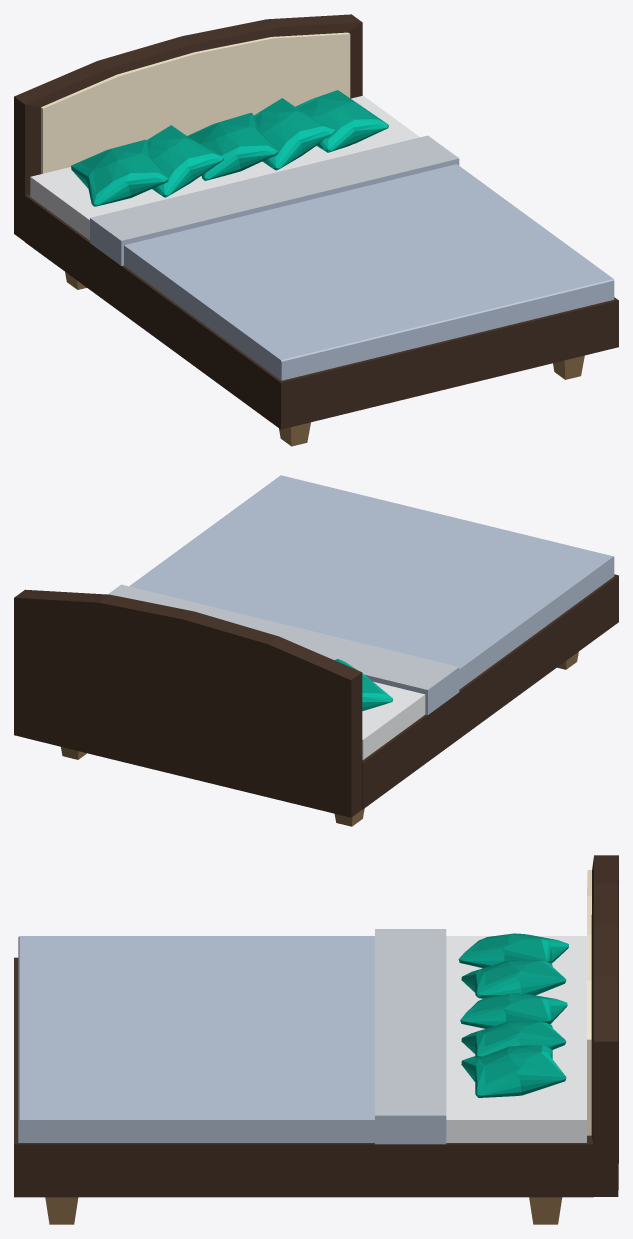
The model's file is Accesories_Bed_Large.007.glb.
3 renders of one model, top to bottom at view 1: azimuth 30°, elevation 25°; view 2: azimuth 150°, elevation 25°; view 3: azimuth 270°, elevation 25°, orthographic. The views are drawn at different scales.
Visible parts, largest first — view 1: Accesories_Bed_Large.007; view 2: Accesories_Bed_Large.007; view 3: Accesories_Bed_Large.007.
Boxes of the visible parts, x1,y1,x2,y2 form: Accesories_Bed_Large.007: (14, 14, 618, 446); Accesories_Bed_Large.007: (14, 475, 618, 826); Accesories_Bed_Large.007: (14, 855, 618, 1224).
Bounding box in the file's own units: 1.6 × 0.8708 × 2.2.
Materials: 1 (1 with a texture image).
